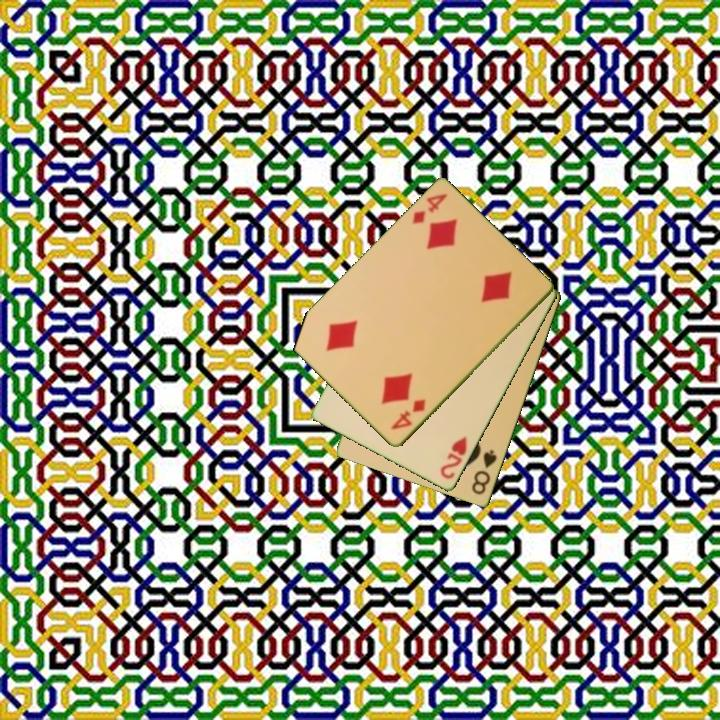2h: (437, 433, 470, 482)
4d: (387, 396, 429, 433), (409, 190, 450, 227)
8s: (468, 446, 500, 498)
